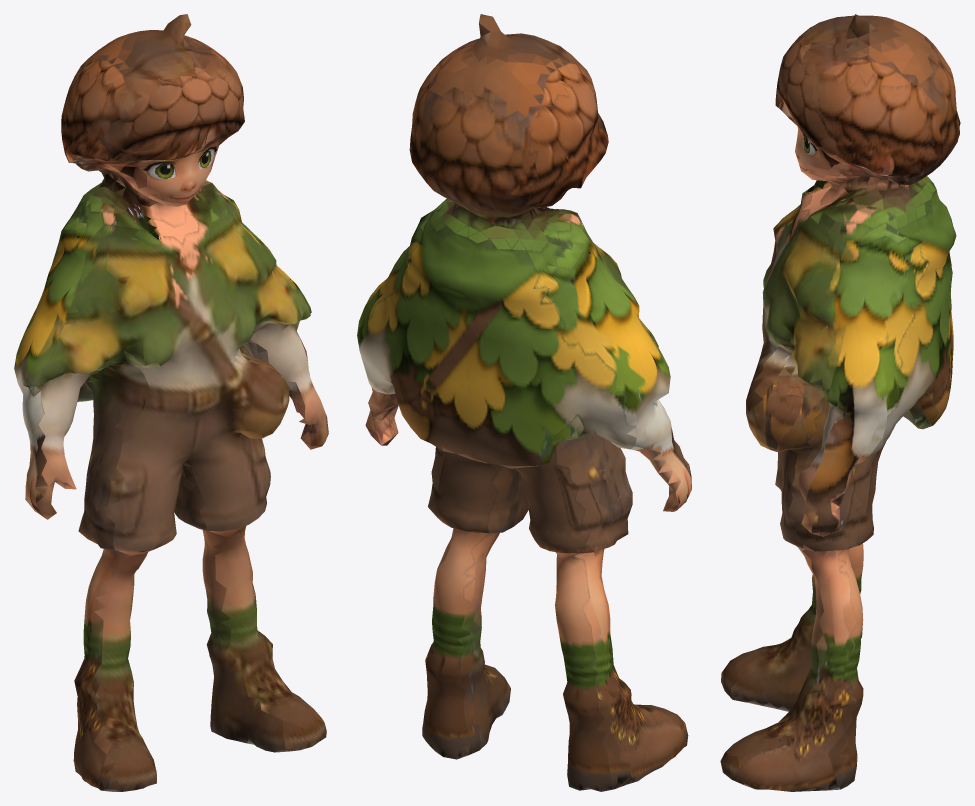
File: acorn-bramble-toon.glb
3 renders of one model, left to right at view 1: azimuth 30°, elevation 25°; view 2: azimuth 150°, elevation 25°; view 3: azimuth 270°, elevation 25°, orthographic. The views are drawn at different scales.
Visible parts, largest first — view 1: world; view 2: world; view 3: world.
Part boxes in pixels (box(x1,y1,x2,y2)): world: box(14, 14, 328, 791); world: box(357, 14, 691, 791); world: box(720, 14, 960, 791).
Bounding box in the file's own units: 0.4129 × 0.9525 × 0.2782.
Materials: 1 (1 with a texture image).
